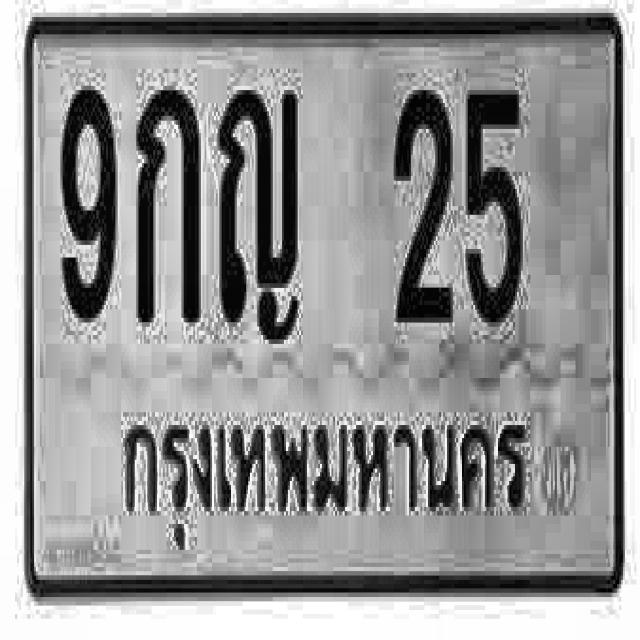license-plate: (24, 10, 624, 598)
